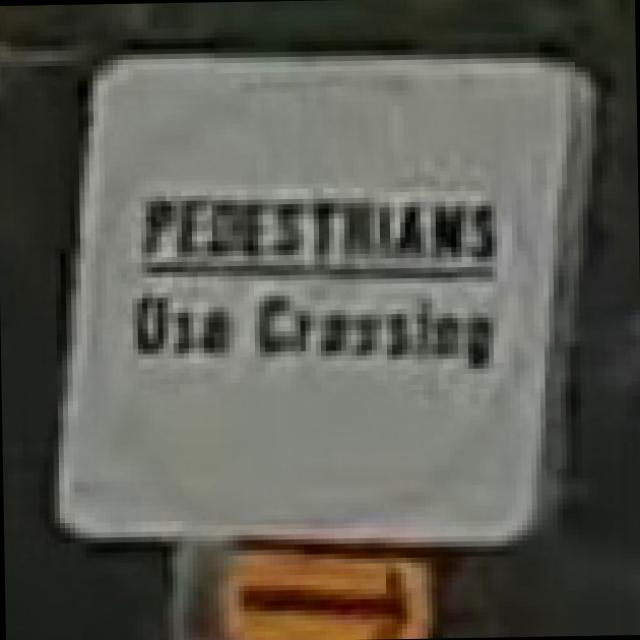pedestriancrossing_sign: (90, 58, 532, 525)
